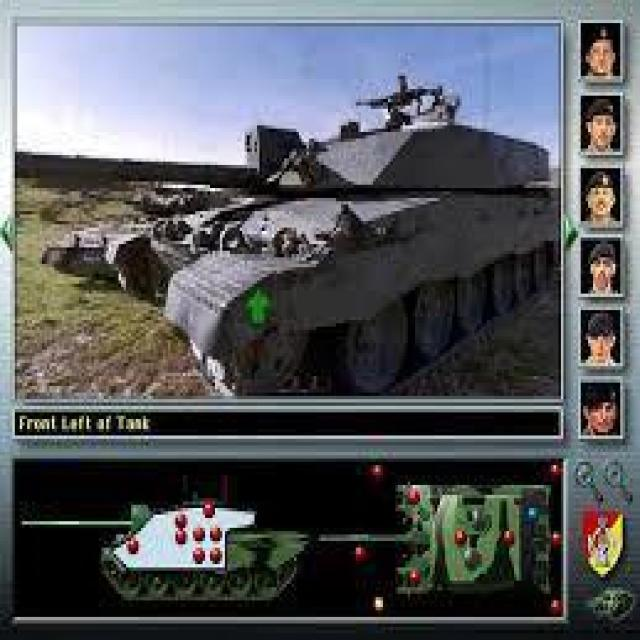MIL_MBT: (90, 89, 557, 386), (19, 492, 305, 600), (318, 482, 552, 597)
